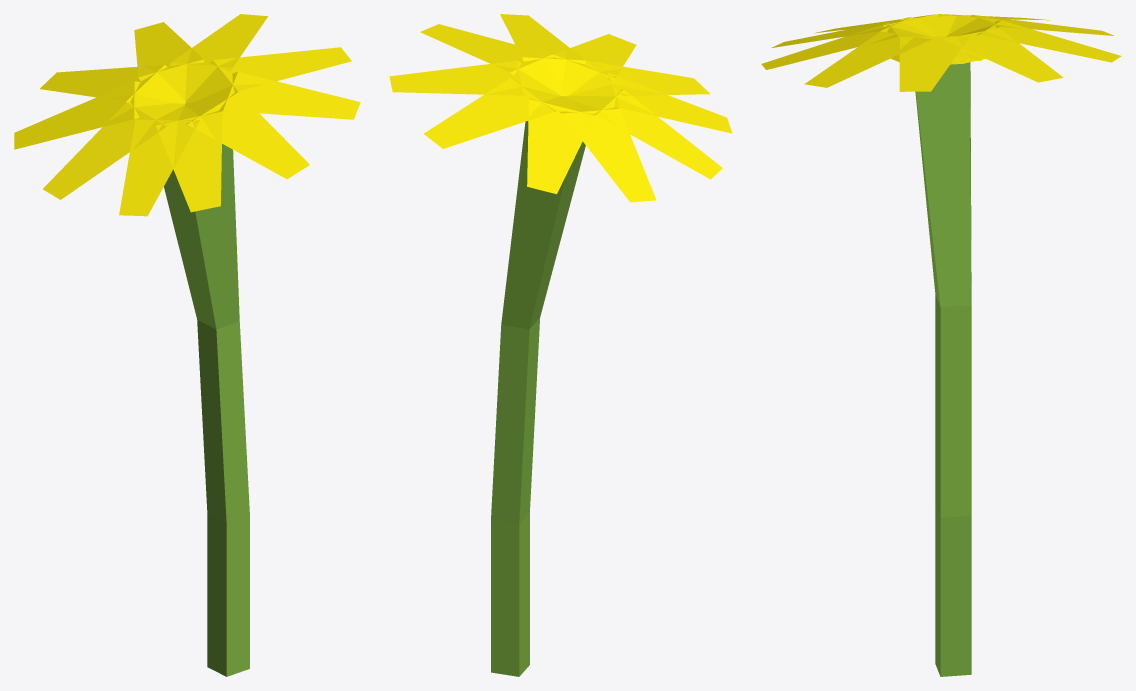
File: dandeliion-phase3.fbx
3 renders of one model, left to right at view 1: azimuth 30°, elevation 25°; view 2: azimuth 150°, elevation 25°; view 3: azimuth 270°, elevation 25°, orthographic. The views are drawn at different scales.
Visible parts, largest first — view 1: phase-3.001; view 2: phase-3.001; view 3: phase-3.001.
Boxes of the visible parts, left/top/right/bottom form: phase-3.001: left=14, top=14, right=360, bottom=676; phase-3.001: left=389, top=14, right=732, bottom=676; phase-3.001: left=761, top=14, right=1121, bottom=676.
Bounding box in the file's own units: 40.53 × 79.48 × 41.26.
